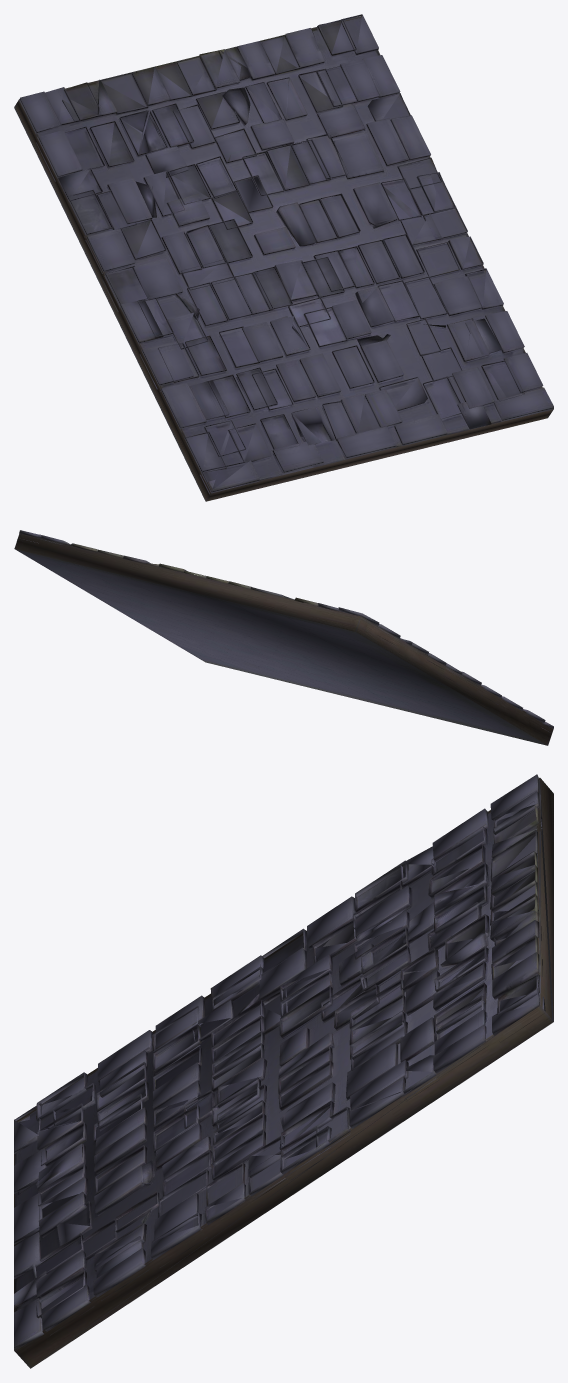
The model's file is roof-slope.glb.
3 views of the same model, one above another, from view 1: azimuth 30°, elevation 25°; view 2: azimuth 150°, elevation 25°; view 3: azimuth 270°, elevation 25° (orthographic). The views are drawn at different scales.
Bounding box in the file's own units: 2 × 1.5 × 2.
Materials: 1 (1 with a texture image).
